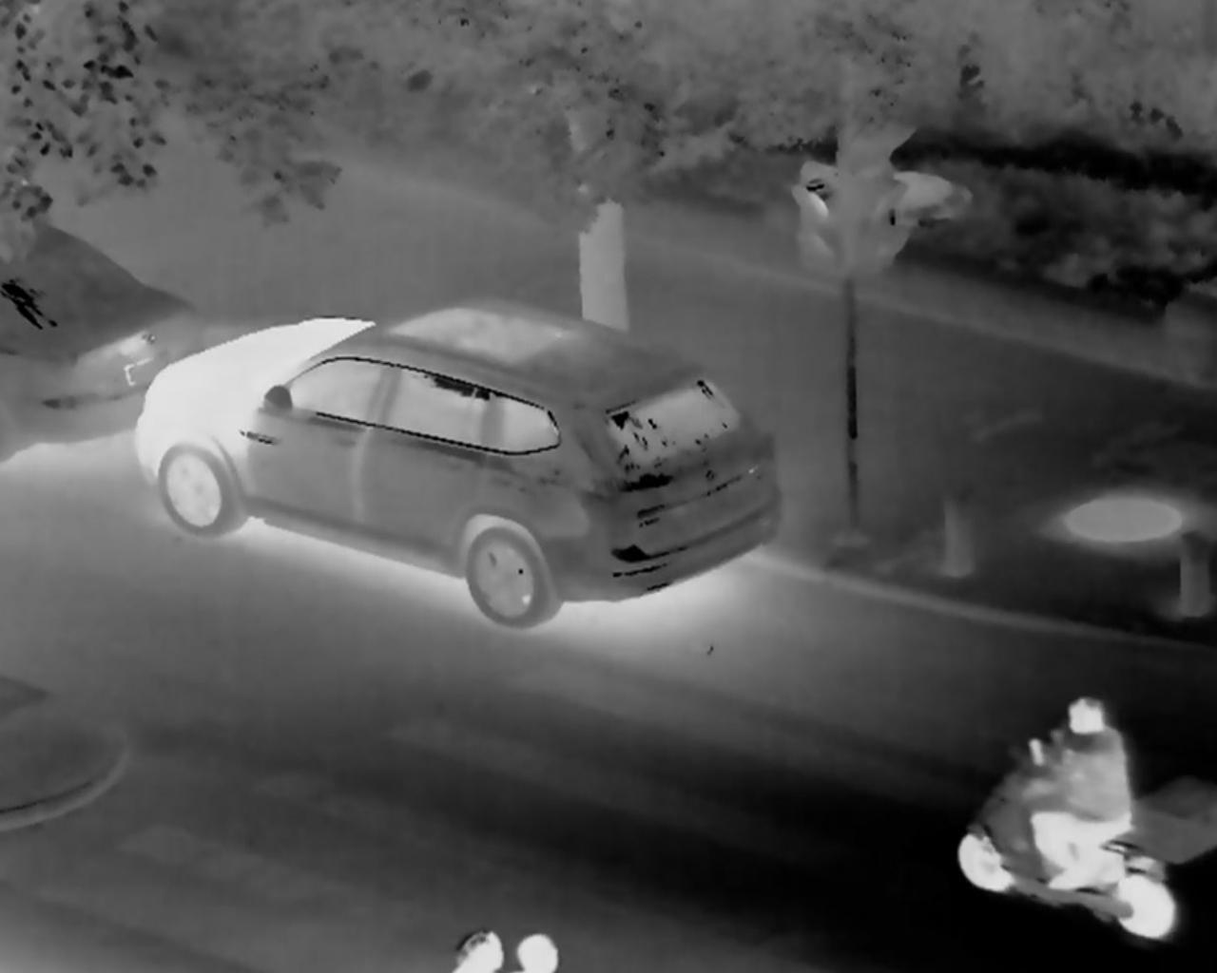person: (1026, 692, 1137, 887)
